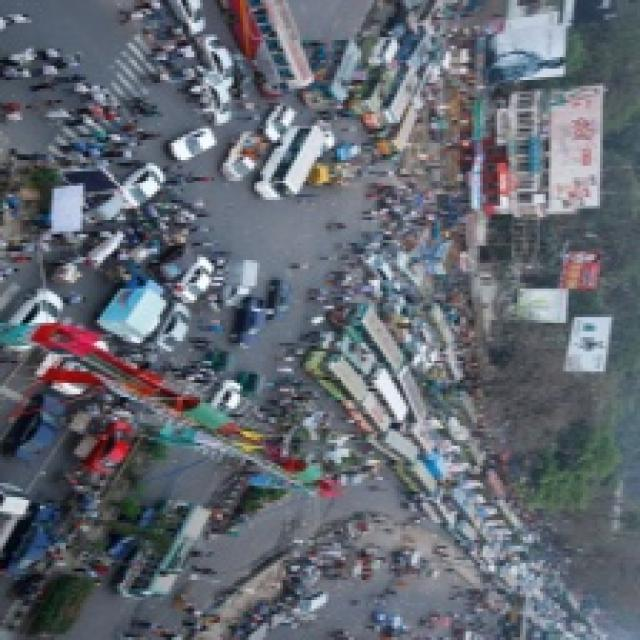car: (10, 285, 65, 349), (116, 156, 164, 215), (229, 295, 277, 348), (164, 124, 221, 166), (153, 304, 198, 353), (192, 35, 244, 77), (197, 71, 241, 120), (178, 255, 221, 304), (264, 279, 298, 326), (263, 99, 299, 140), (163, 0, 213, 27), (355, 255, 397, 279)
